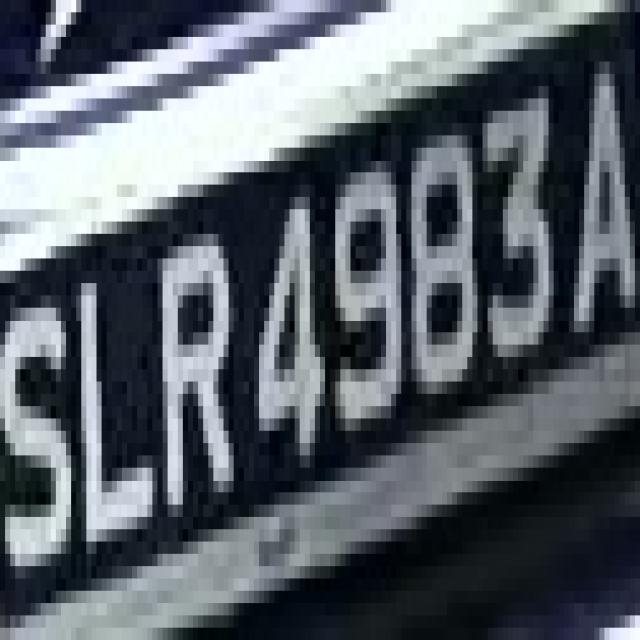3: (477, 74, 564, 381)
4: (239, 148, 330, 480)
8: (391, 111, 488, 431)
9: (315, 136, 401, 456)
A: (553, 61, 640, 381)
L: (71, 234, 158, 554)
R: (152, 197, 228, 541)
S: (5, 258, 81, 591)
